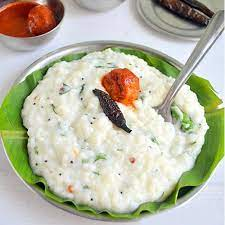curd_rice: (20, 45, 211, 213)
